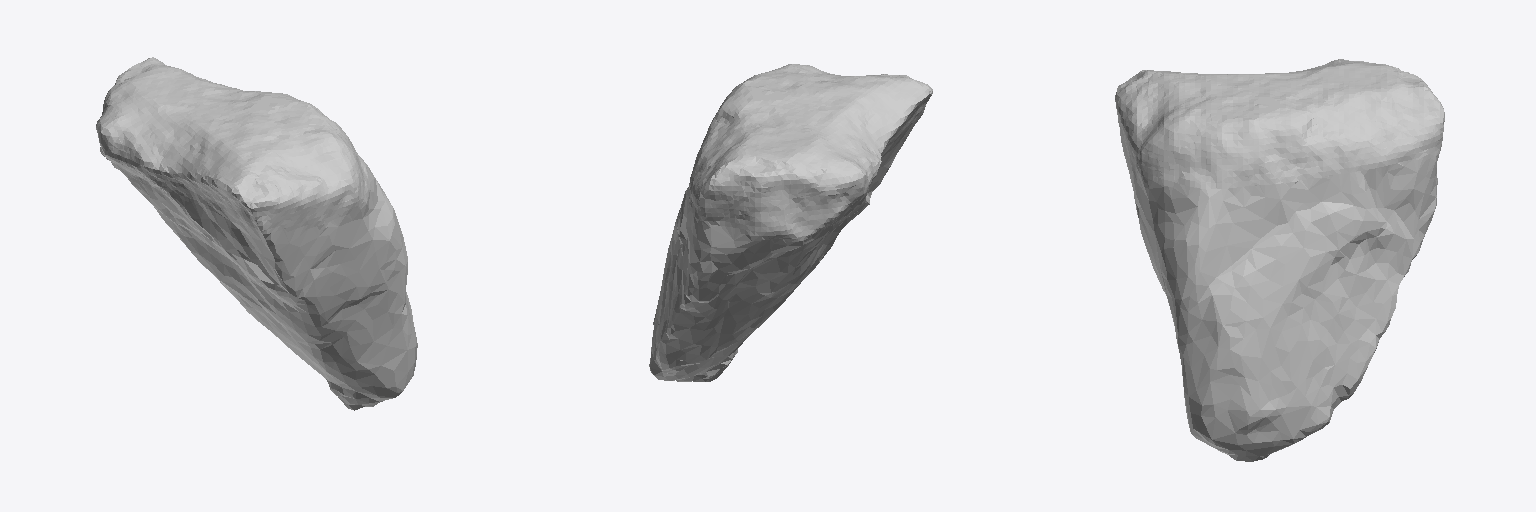
Rendered from final_sp1_test_roll.obj.
The picture shows the model from 3 angles: view 1: azimuth 30°, elevation 25°; view 2: azimuth 150°, elevation 25°; view 3: azimuth 270°, elevation 25°; orthographic projection.
Size of the model in its own units: 0.67 by 0.79 by 0.76.